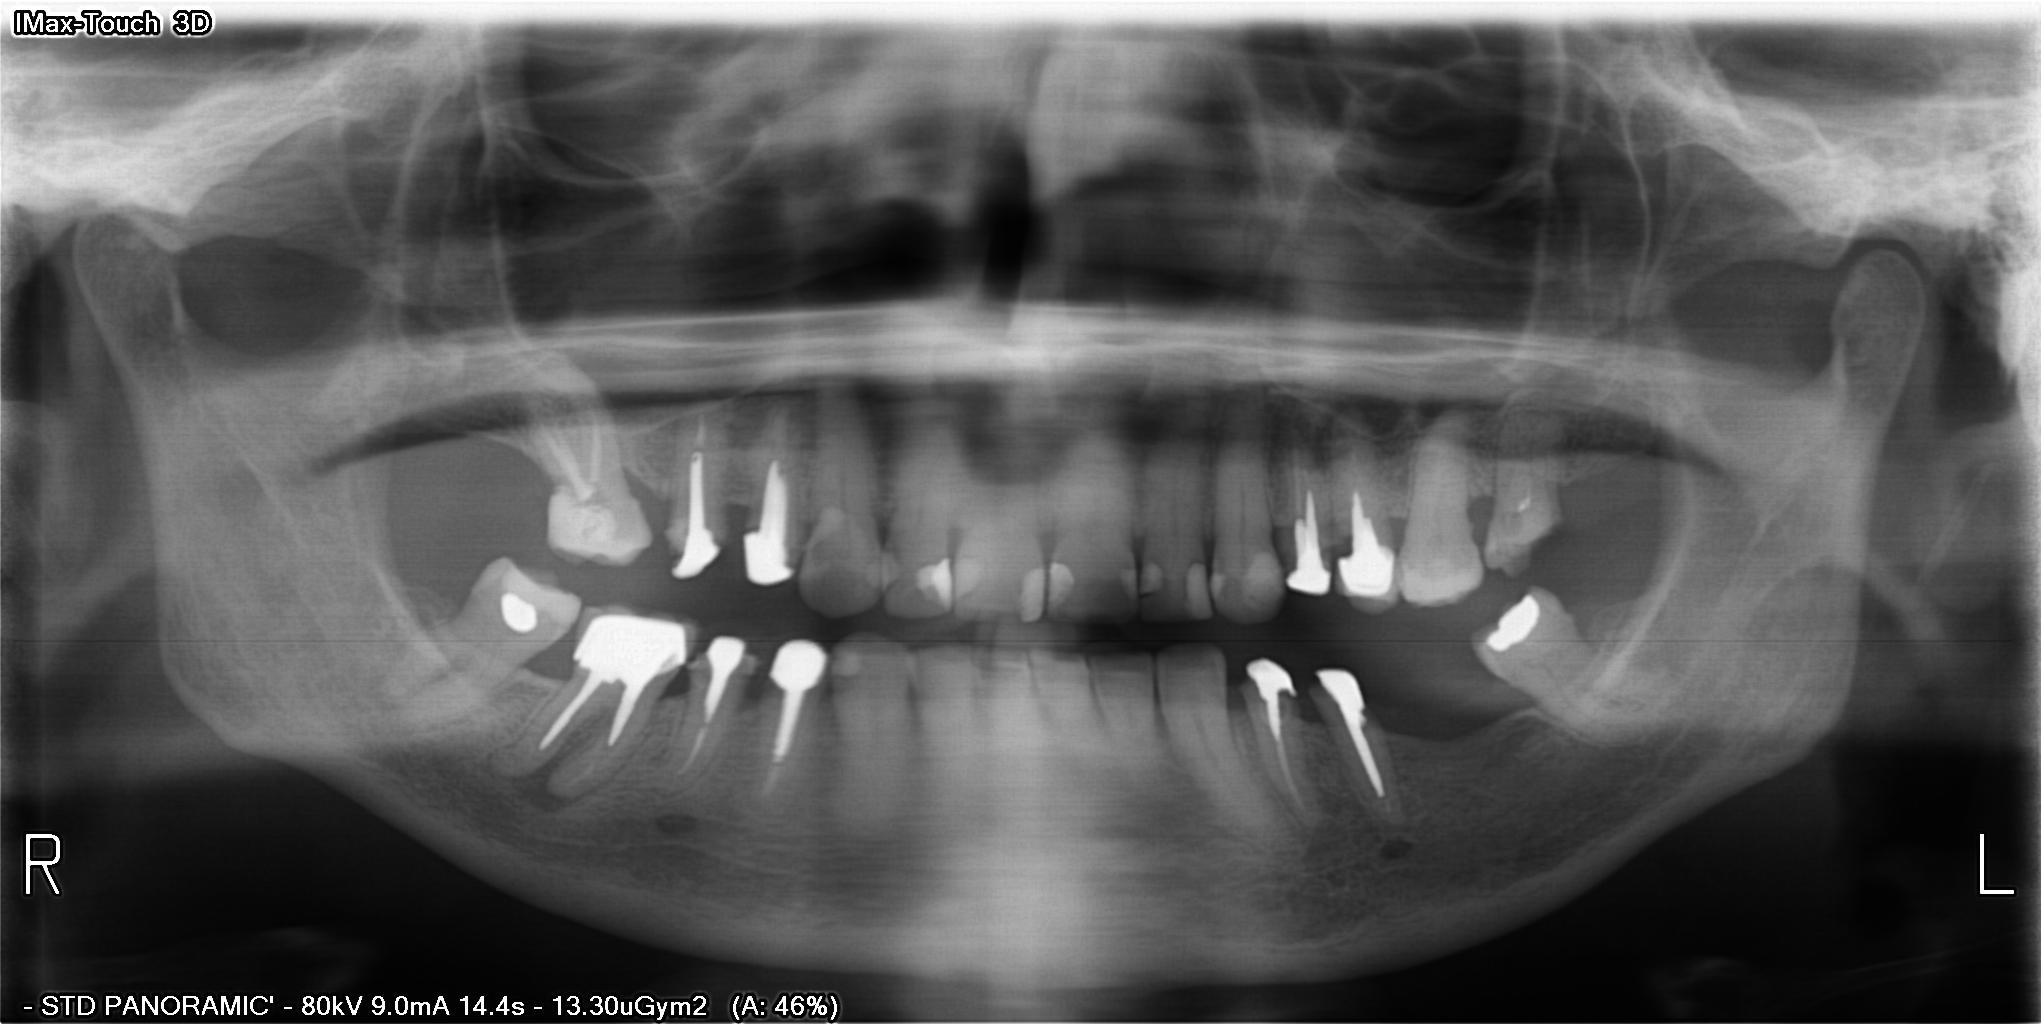Çürük: (734, 441, 804, 596), (665, 439, 730, 590), (571, 605, 689, 684), (1335, 470, 1404, 602), (767, 624, 833, 759), (1281, 479, 1336, 600), (1312, 653, 1385, 741), (1469, 583, 1550, 660), (1227, 648, 1305, 724), (487, 576, 550, 645), (908, 547, 962, 613), (1047, 539, 1084, 627), (708, 626, 751, 684), (1016, 562, 1047, 628), (1188, 568, 1221, 614), (862, 554, 894, 589), (1141, 558, 1160, 590), (1119, 572, 1131, 596)
Çürük Bölgesi: (1493, 526, 1560, 569), (1130, 581, 1167, 622), (1213, 572, 1239, 620)
